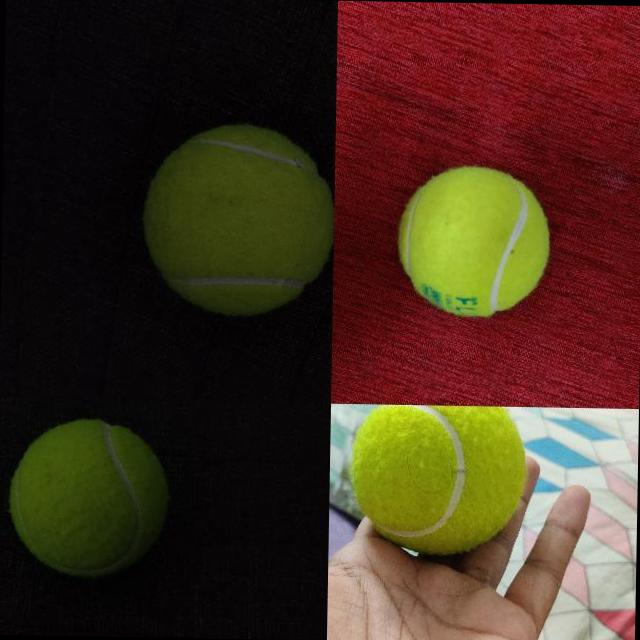Tennis Ball: (140, 121, 334, 316), (346, 403, 528, 558), (7, 418, 170, 578), (395, 165, 550, 317)
